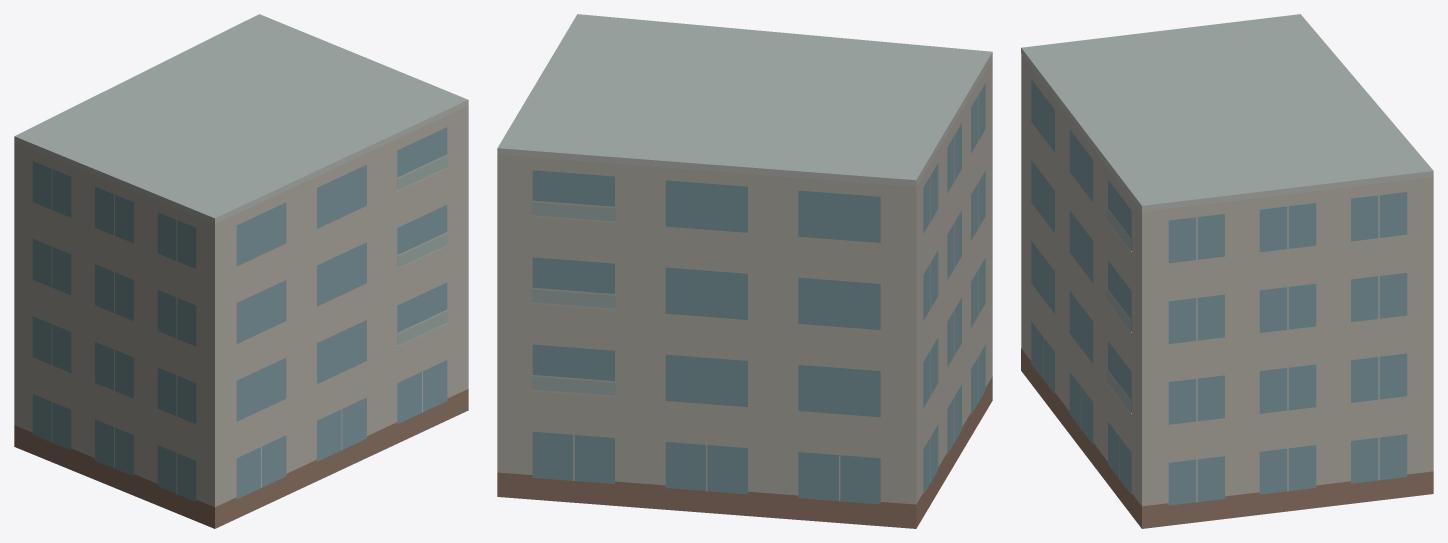
The model's file is survey-upis-32626160.glb.
3 views of the same model, side by side, from view 1: azimuth 30°, elevation 25°; view 2: azimuth 150°, elevation 25°; view 3: azimuth 270°, elevation 25° (orthographic). The views are drawn at different scales.
Visible parts, largest first — view 1: survey-upis-32626160.tmp; view 2: survey-upis-32626160.tmp; view 3: survey-upis-32626160.tmp.
Boxes of the visible parts, x1=… form: survey-upis-32626160.tmp: x1=14, y1=14, x2=468, y2=528; survey-upis-32626160.tmp: x1=497, y1=14, x2=992, y2=528; survey-upis-32626160.tmp: x1=1021, y1=14, x2=1433, y2=528.
Bounding box in the file's own units: 16.7 × 13.1 × 15.17.
